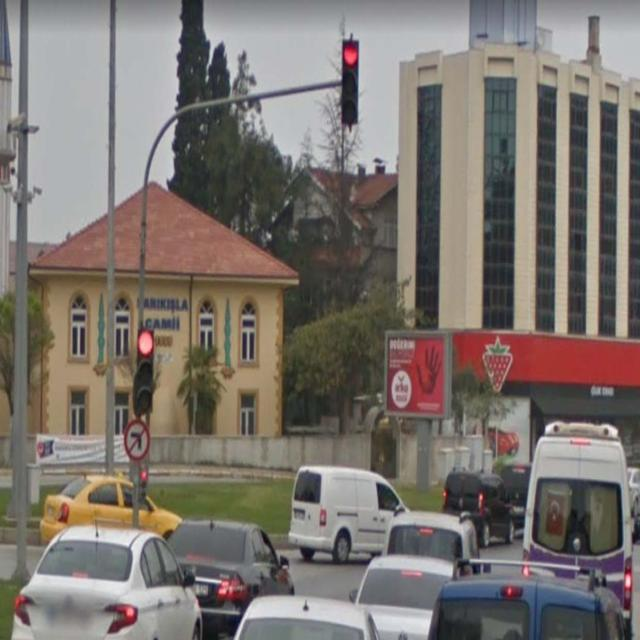kirmizi: (342, 38, 358, 125), (139, 330, 153, 410)
soladonulmez: (124, 418, 150, 461)
